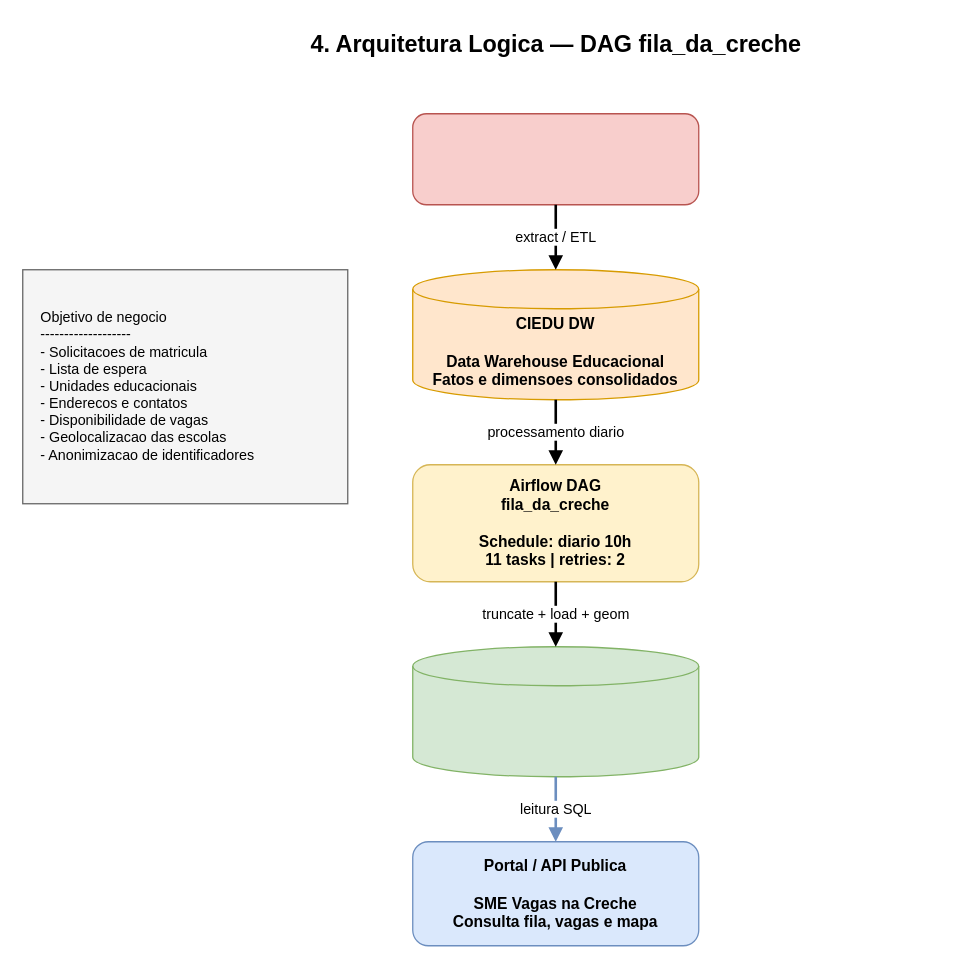
Image size: 968x968. Some labels were removed from this diagram. Each missing label, with the centre of its shape:
Banco Fila da Creche PostgreSQL + PostGIS Dados publicados para consulta: point 555,711
EOL / RAW_EOL Sistema legado de cadastro educacional: point 555,158
